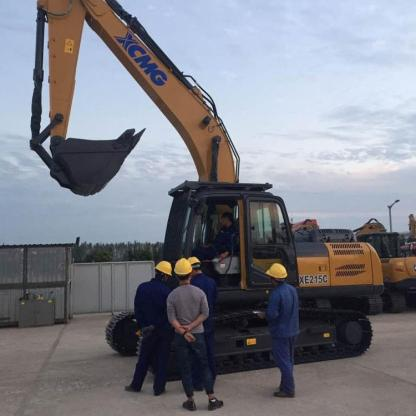excavator: (17, 1, 389, 386)
